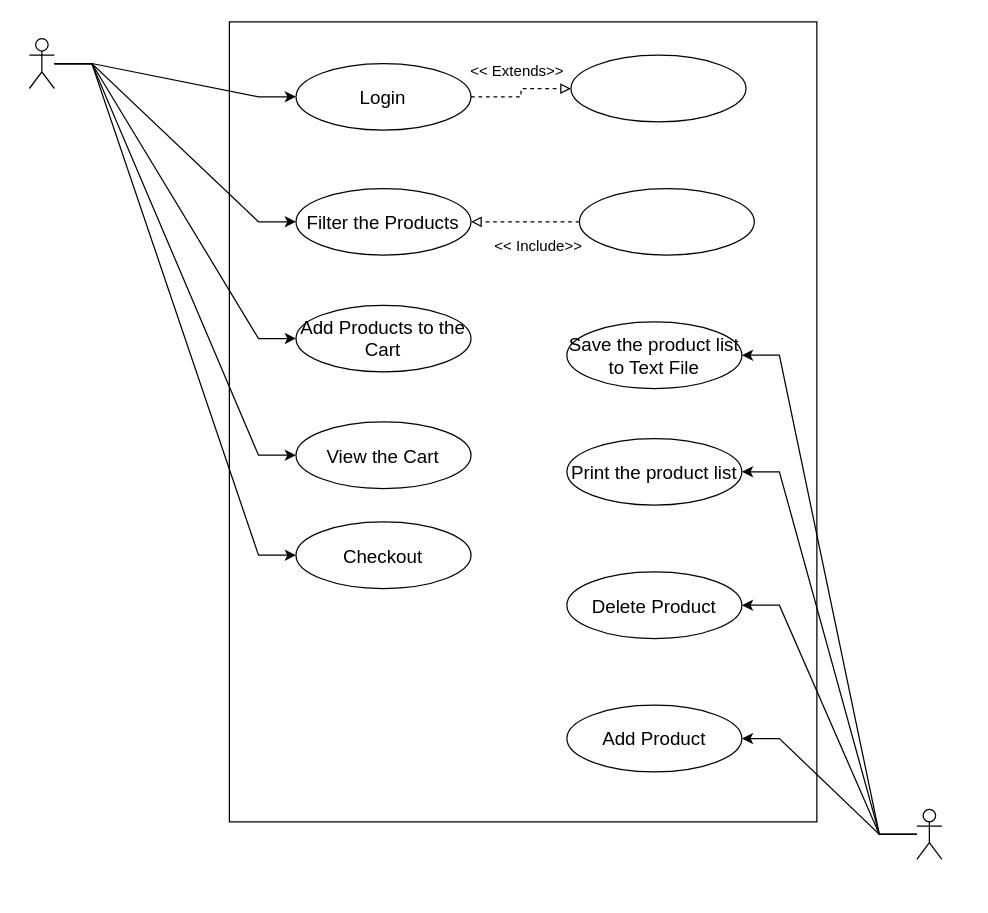
The diagram is 988 pixels wide and 913 high, and some of its shapes have lost their labels. The shapes that lost their labels are listed below. From the top down, each one's centre as x and y in pixels, then its label:
At (41,62): "User".
At (658,88): "Register".
At (666,221): "Sort the products".
At (929,833): "Manager".
